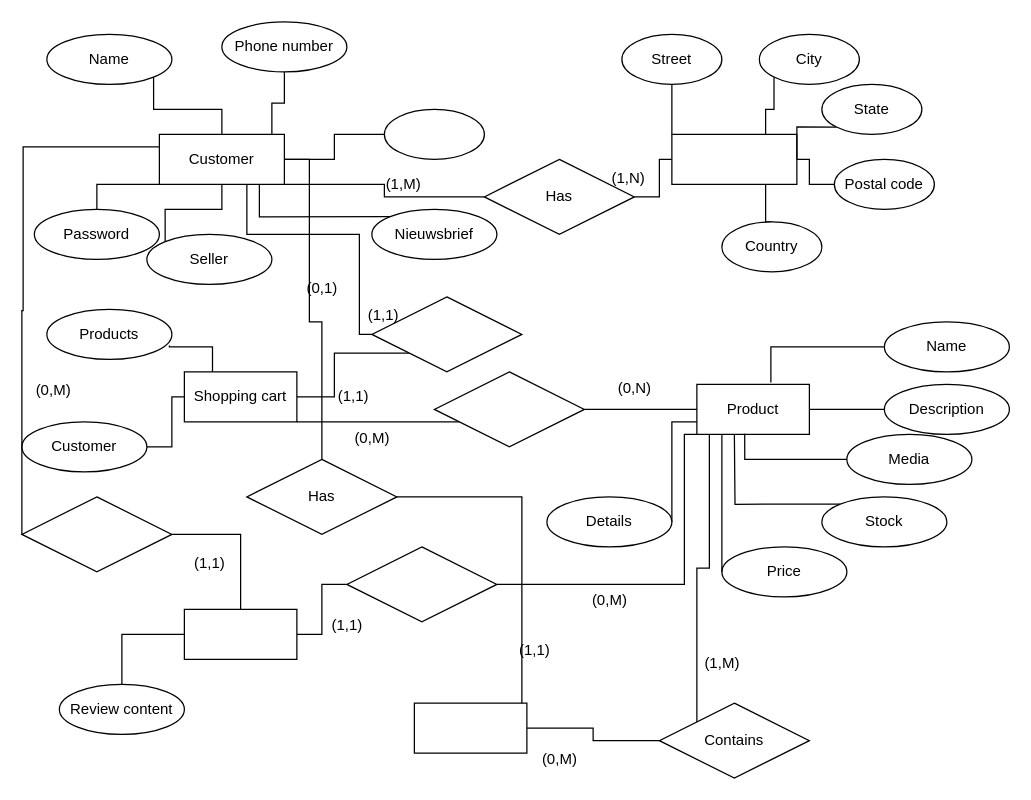
Some shapes in this 1031 by 800 pixel diagram are drawn without their labels. The box of each missing label's shape, as (x1, y1, x2, y2) in pixels:
About: (346, 546, 497, 622)
Added to: (433, 371, 584, 447)
Adds products to: (371, 296, 522, 372)
Adress: (671, 133, 797, 184)
Email: (383, 108, 484, 159)
Product catalog: (413, 702, 527, 753)
Review: (183, 608, 297, 659)
writes: (21, 496, 172, 572)
